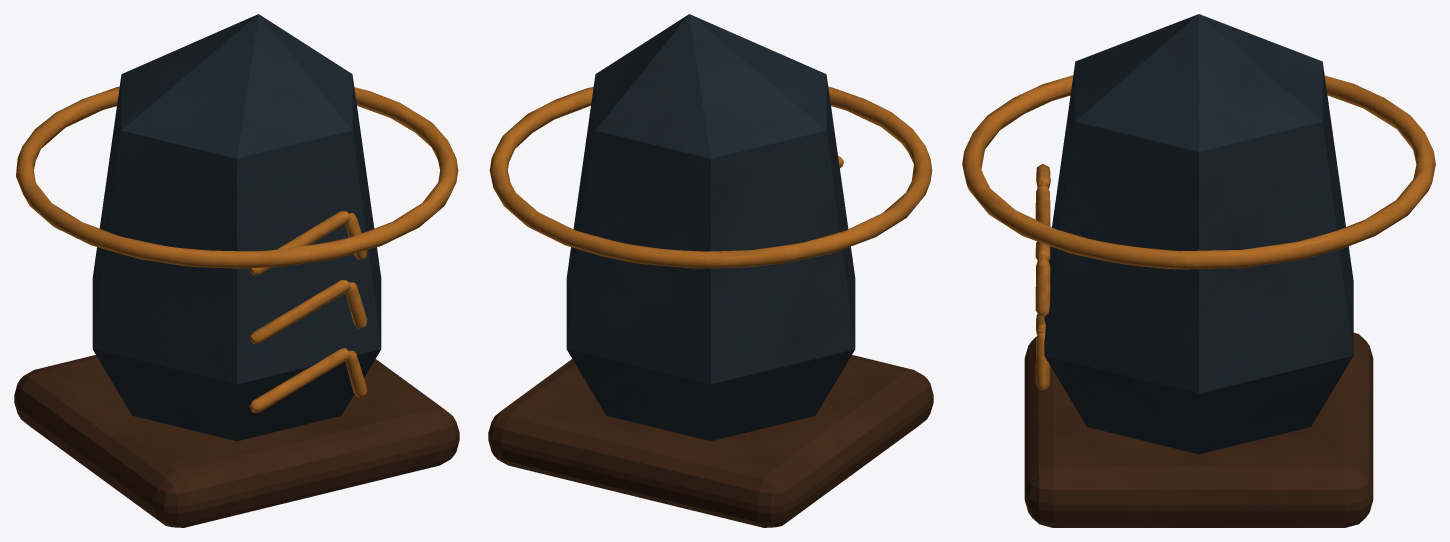
File: relic_09_low.glb
3 renders of one model, left to right at view 1: azimuth 30°, elevation 25°; view 2: azimuth 150°, elevation 25°; view 3: azimuth 270°, elevation 25°, orthographic. The views are drawn at different scales.
Visible parts, largest first — view 1: Weathered_basalt, Patinated_bronze, Brushed_gold; view 2: Weathered_basalt, Patinated_bronze, Brushed_gold; view 3: Weathered_basalt, Patinated_bronze, Brushed_gold.
Boxes of the visible parts, left/top/right/bottom form: Weathered_basalt: left=92, top=14, right=381, bottom=441; Patinated_bronze: left=14, top=355, right=459, bottom=527; Brushed_gold: left=16, top=86, right=458, bottom=412; Weathered_basalt: left=566, top=14, right=855, bottom=441; Patinated_bronze: left=488, top=355, right=933, bottom=527; Brushed_gold: left=489, top=86, right=932, bottom=268; Weathered_basalt: left=1044, top=14, right=1353, bottom=454; Patinated_bronze: left=1024, top=333, right=1373, bottom=527; Brushed_gold: left=962, top=75, right=1435, bottom=390.
Size of the model in its own units: 0.584 by 0.62 by 0.584.
Materials: 3 (3 with a texture image).
